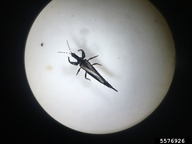Thrips: (56, 39, 122, 98)
